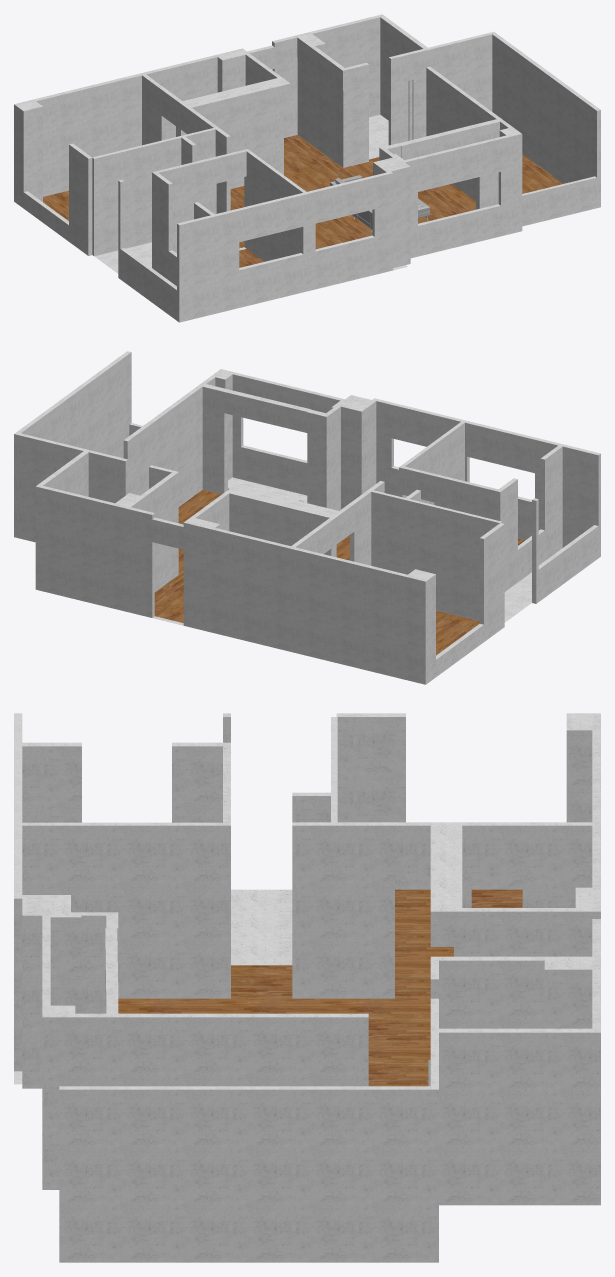
3 renders of one model, top to bottom at view 1: azimuth 30°, elevation 25°; view 2: azimuth 150°, elevation 25°; view 3: azimuth 270°, elevation 25°, orthographic. The views are drawn at different scales.
Parts seen in each view (by area): view 1: root; view 2: root; view 3: root.
Part boxes in pixels (x1,y1,x2,y2): root: (14,14,600,322); root: (14,351,600,684); root: (14,713,600,1262).
Size of the model in its own units: 12.93 by 2.77 by 8.53.
Materials: 8 (3 with a texture image).
